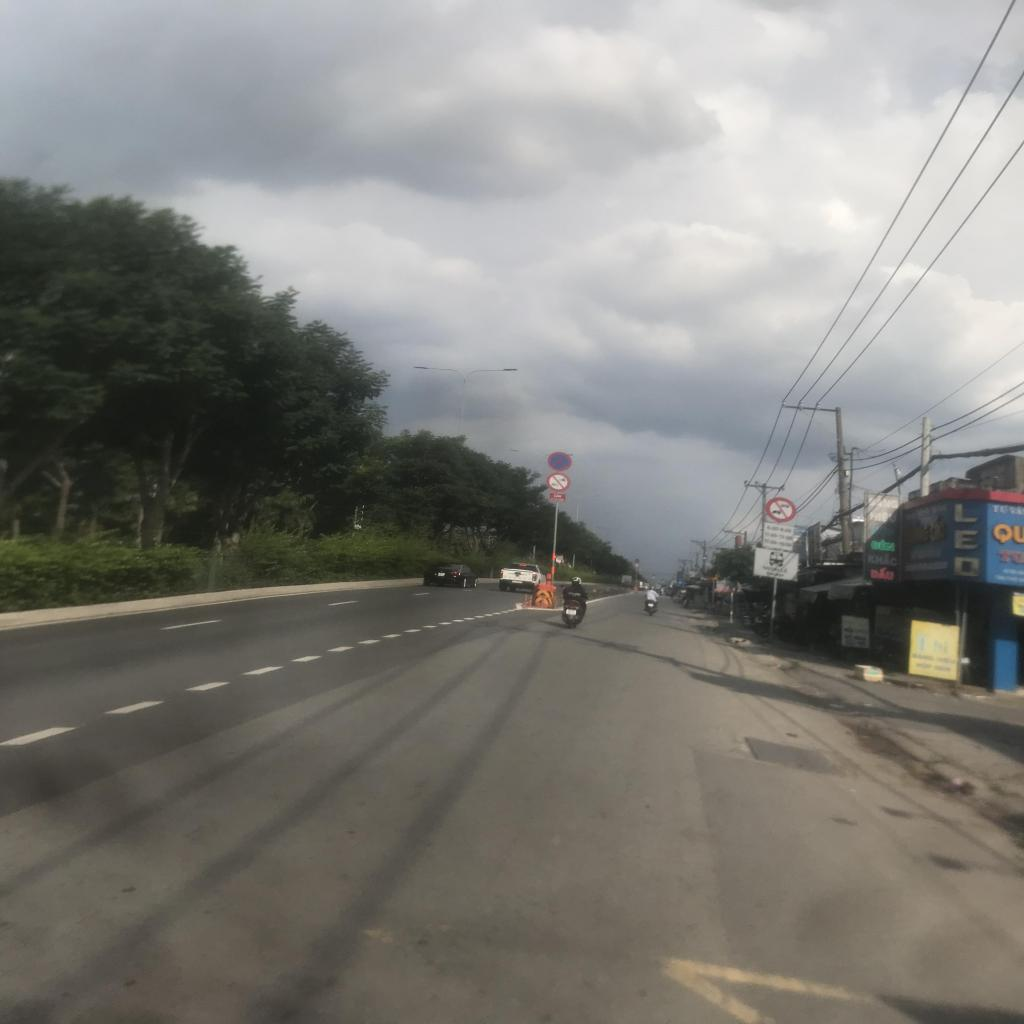cam_dung_xe_va_do_xe: (547, 452, 571, 472)
cam_o_to_tai_va_xe_khach: (766, 497, 795, 522)
cam_xe_2_banh_va_xe_3_banh_co_dong_co: (546, 472, 570, 493)
khac: (753, 547, 799, 582), (763, 522, 794, 552)
